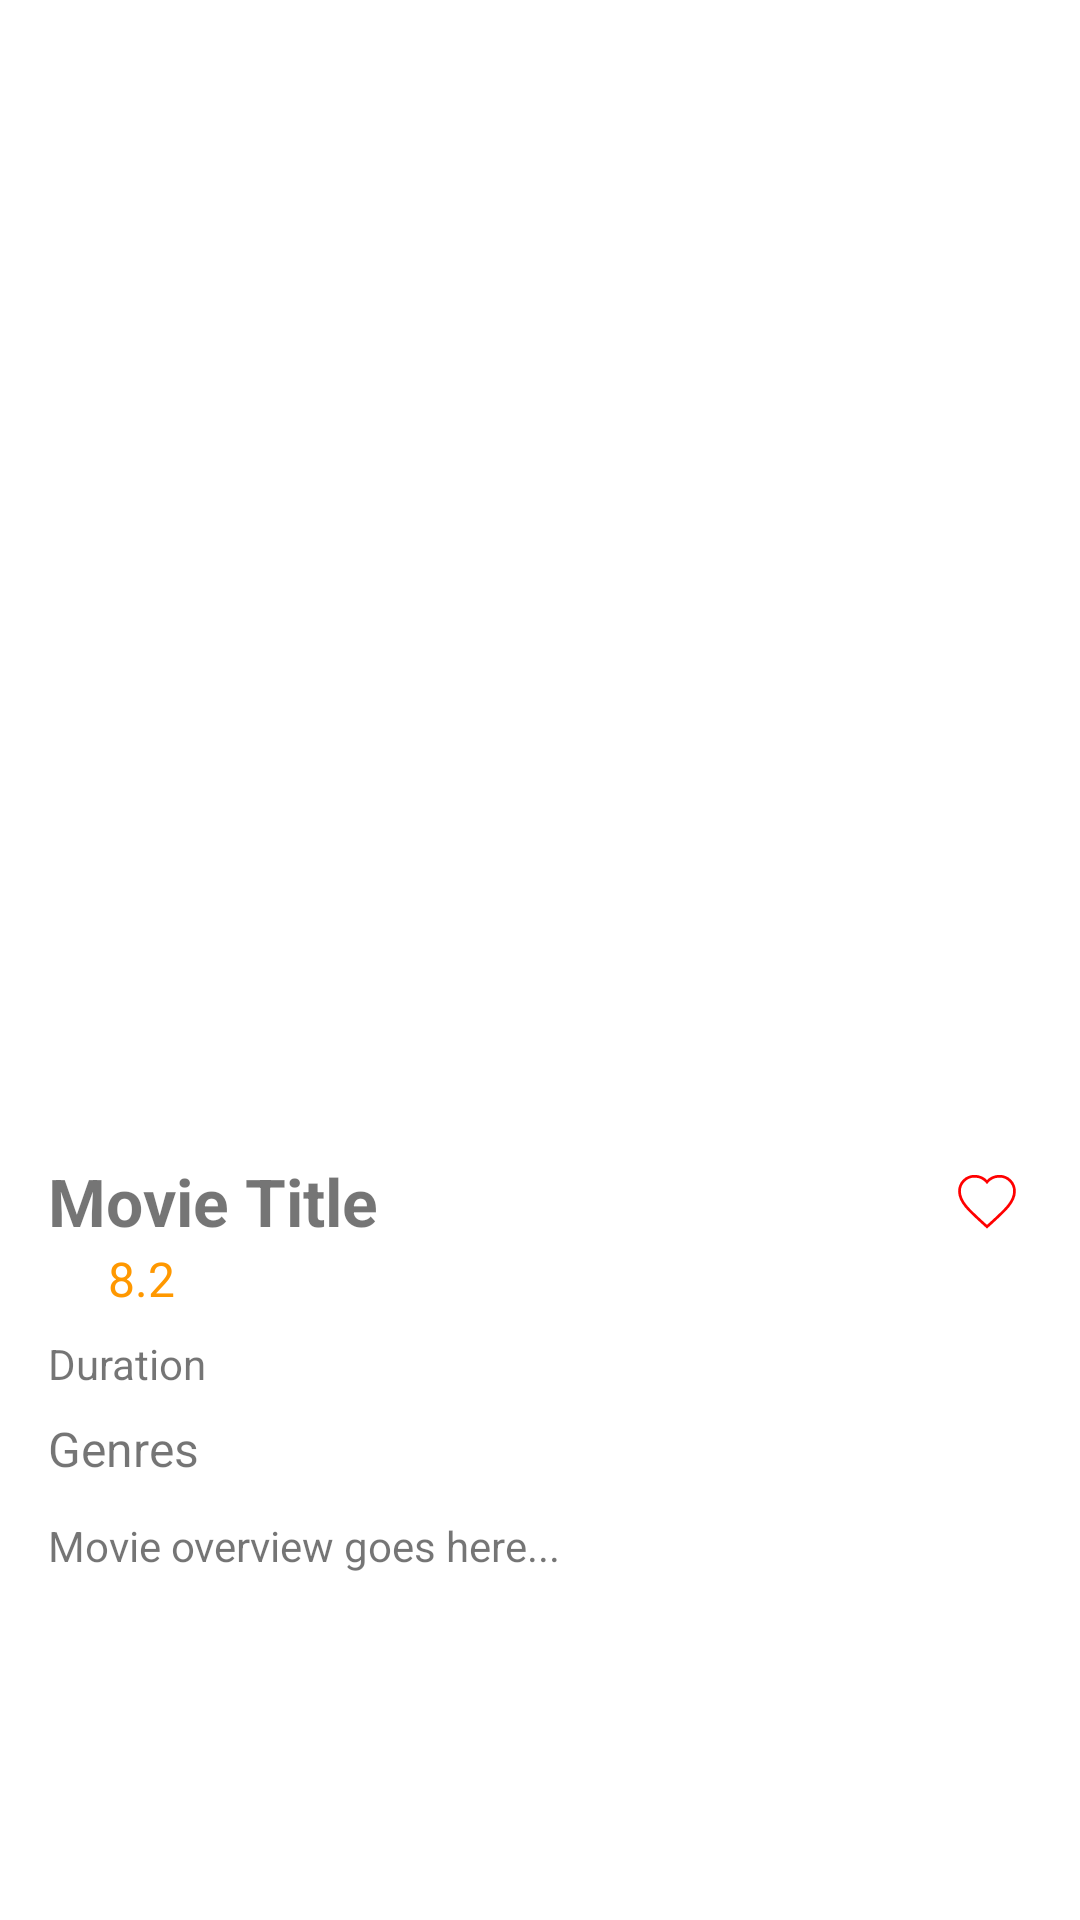

Icon click points for this 1080×1920 phone screenshot, format point (x, y):
Favorite: point (987, 1202)
